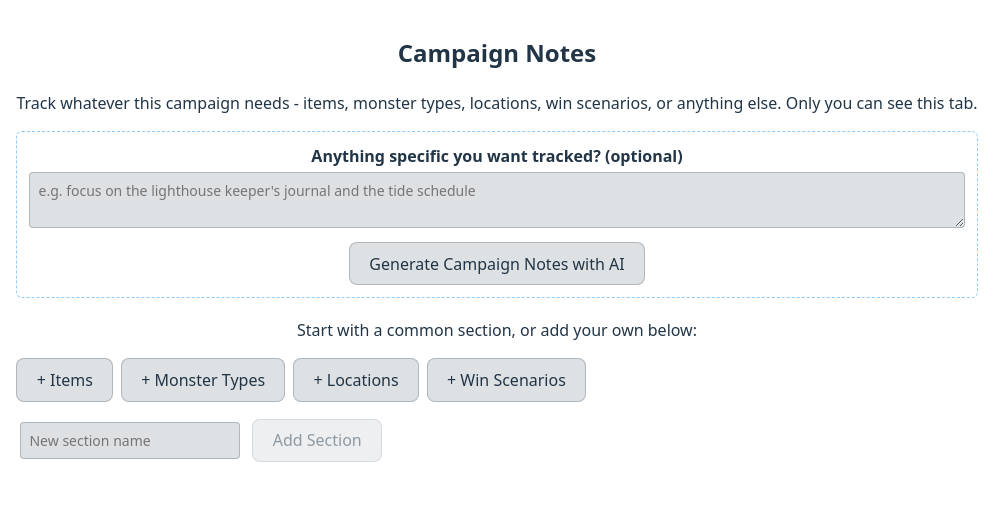
CampaignNotes › shows an error and no drafts when the AI returns invalid JSON
The width and height of the screenshot is (995, 507).
Step 1. Click the button "Generate Campaign Notes with AI" → point(497, 264), box [349,242,645,285]
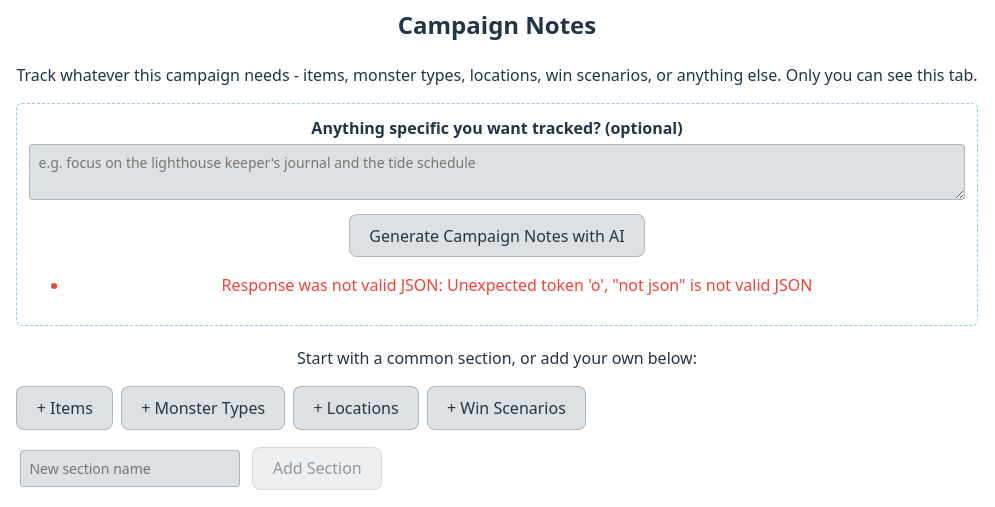
Expected: the list item "not valid JSON" is shown, [222,274,812,296]
